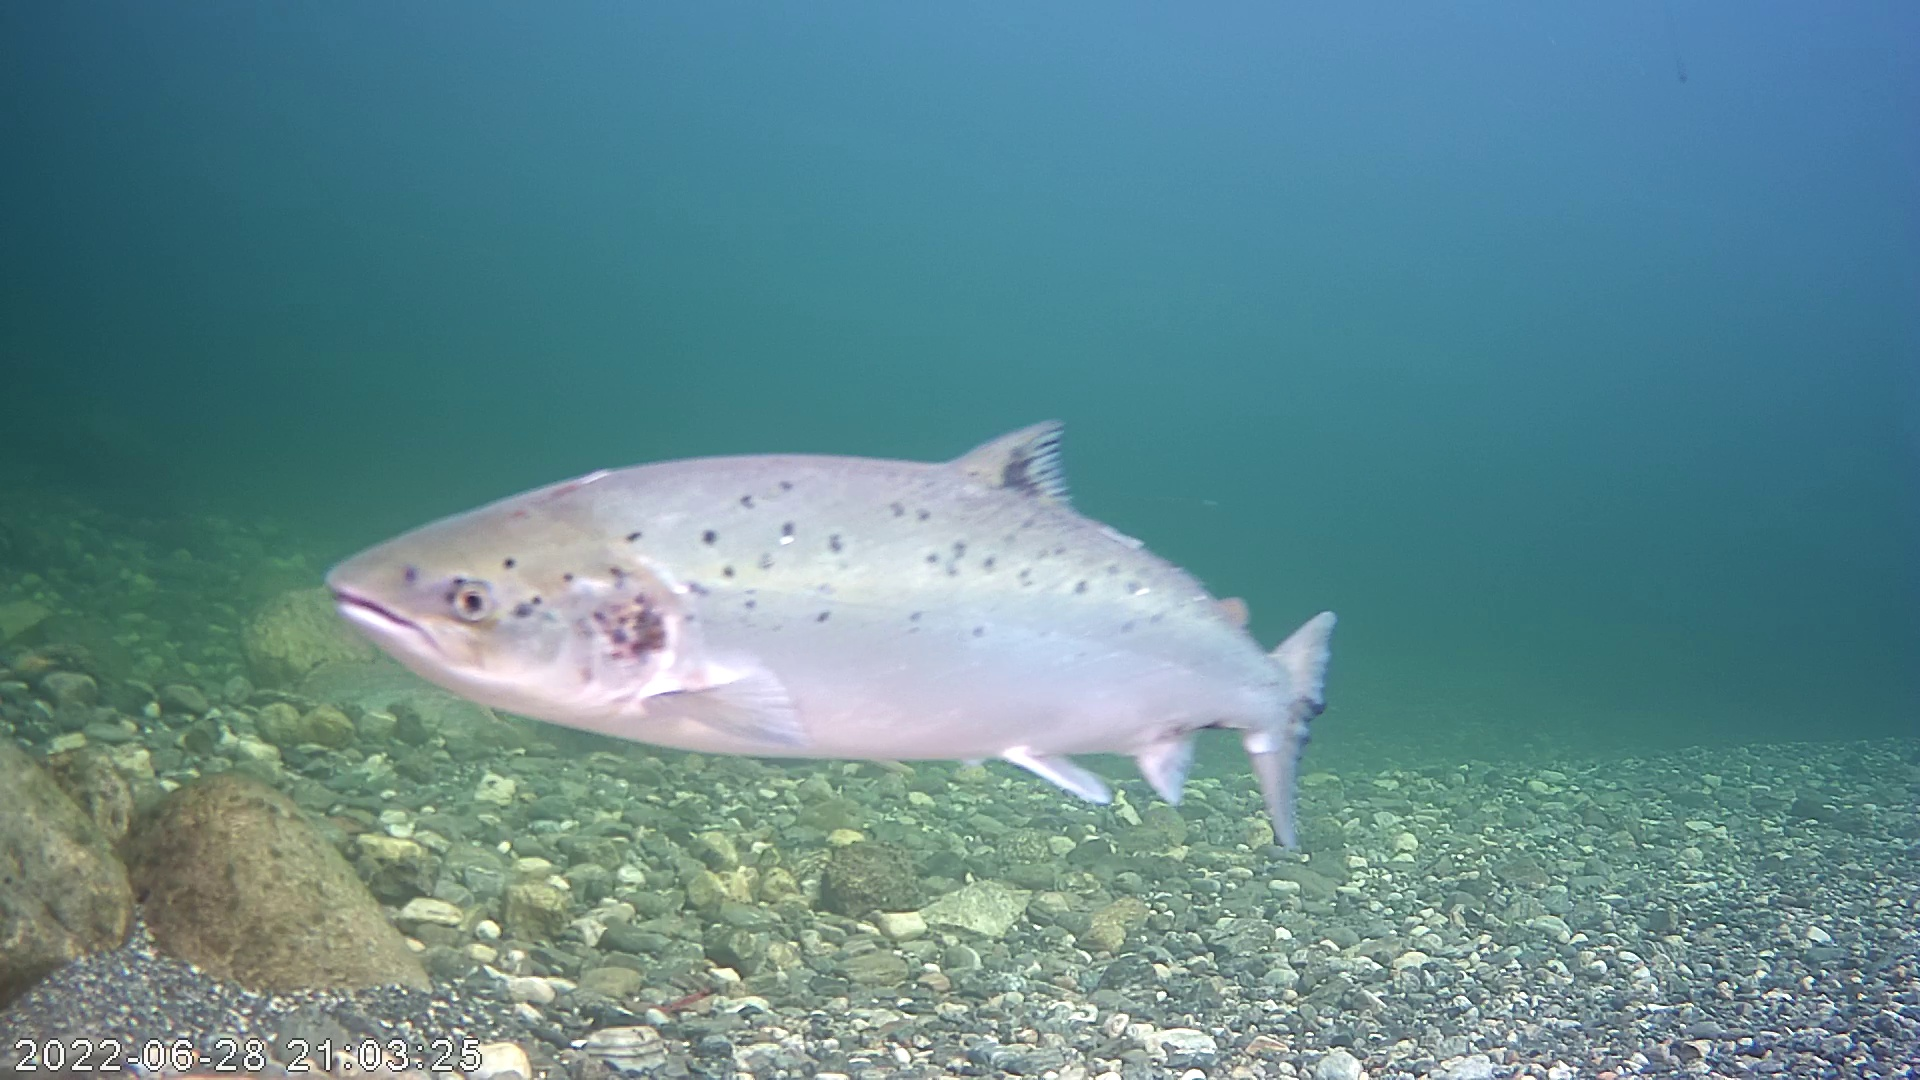salmon: (272, 323, 1349, 877)
